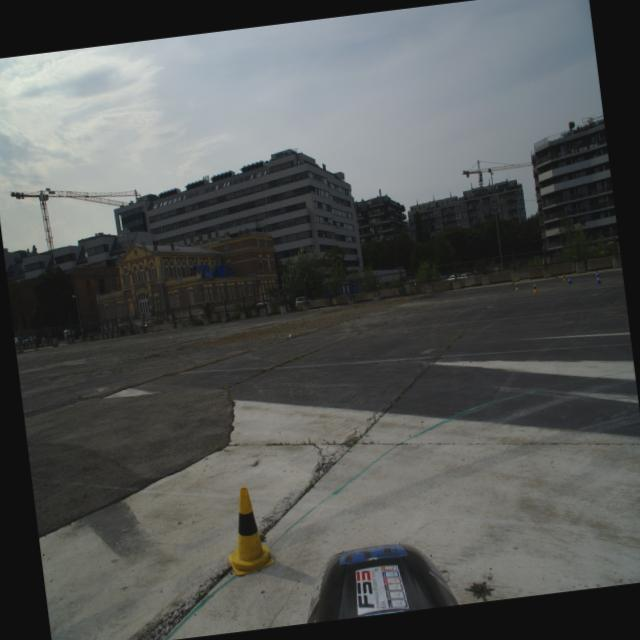blue_cone: (594, 274, 602, 284), (566, 276, 572, 284), (594, 270, 600, 277)
yellow_cone: (220, 484, 274, 576), (532, 283, 538, 293), (514, 282, 519, 290), (562, 274, 566, 280)
